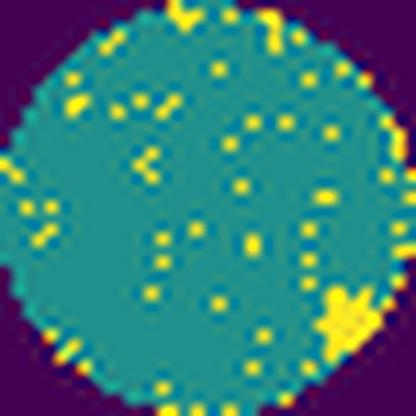Edge-Loc: (310, 278, 392, 363)
